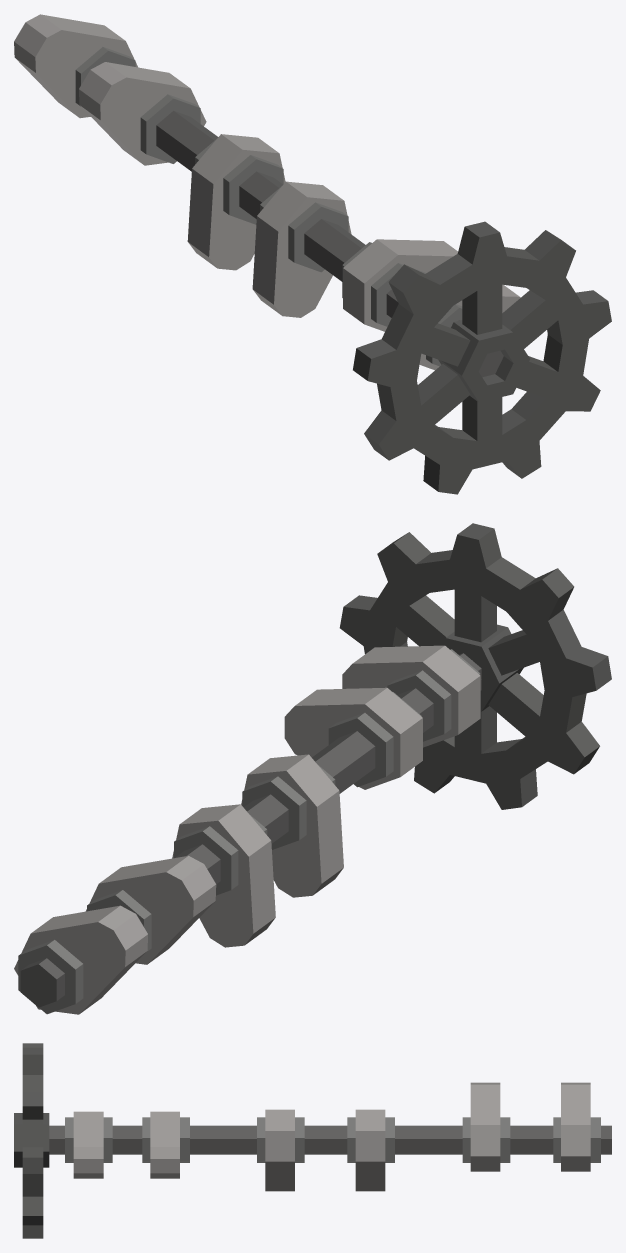
Rendered from SM_Prop_Camshaft_01.fbx.
The picture shows the model from 3 angles, top to bottom: view 1: azimuth 30°, elevation 25°; view 2: azimuth 150°, elevation 25°; view 3: azimuth 270°, elevation 25°; orthographic projection. The views are drawn at different scales.
Visible parts, largest first — view 1: SM_Prop_Camshaft_01; view 2: SM_Prop_Camshaft_01; view 3: SM_Prop_Camshaft_01.
Boxes of the visible parts, x1,y1,x2,y2 form: SM_Prop_Camshaft_01: (14,14,611,494); SM_Prop_Camshaft_01: (14,523,611,1014); SM_Prop_Camshaft_01: (14,1043,611,1238).
Size of the model in its own units: 27.39 by 26.97 by 83.47.
